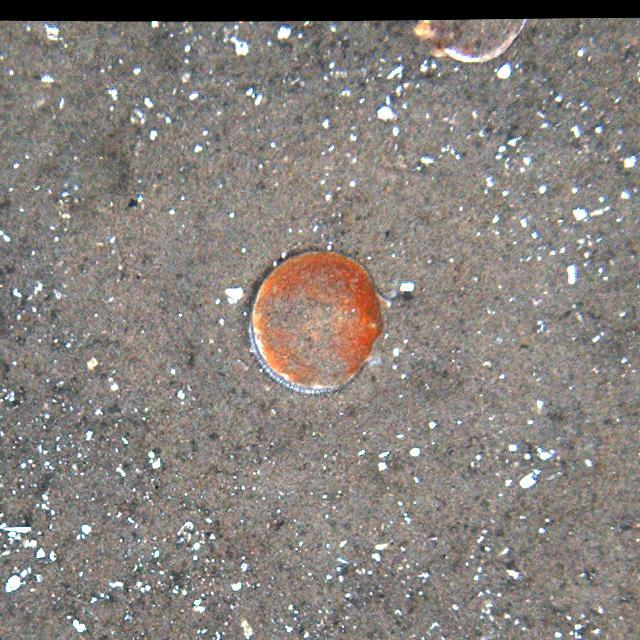scallop: (251, 250, 393, 392)
